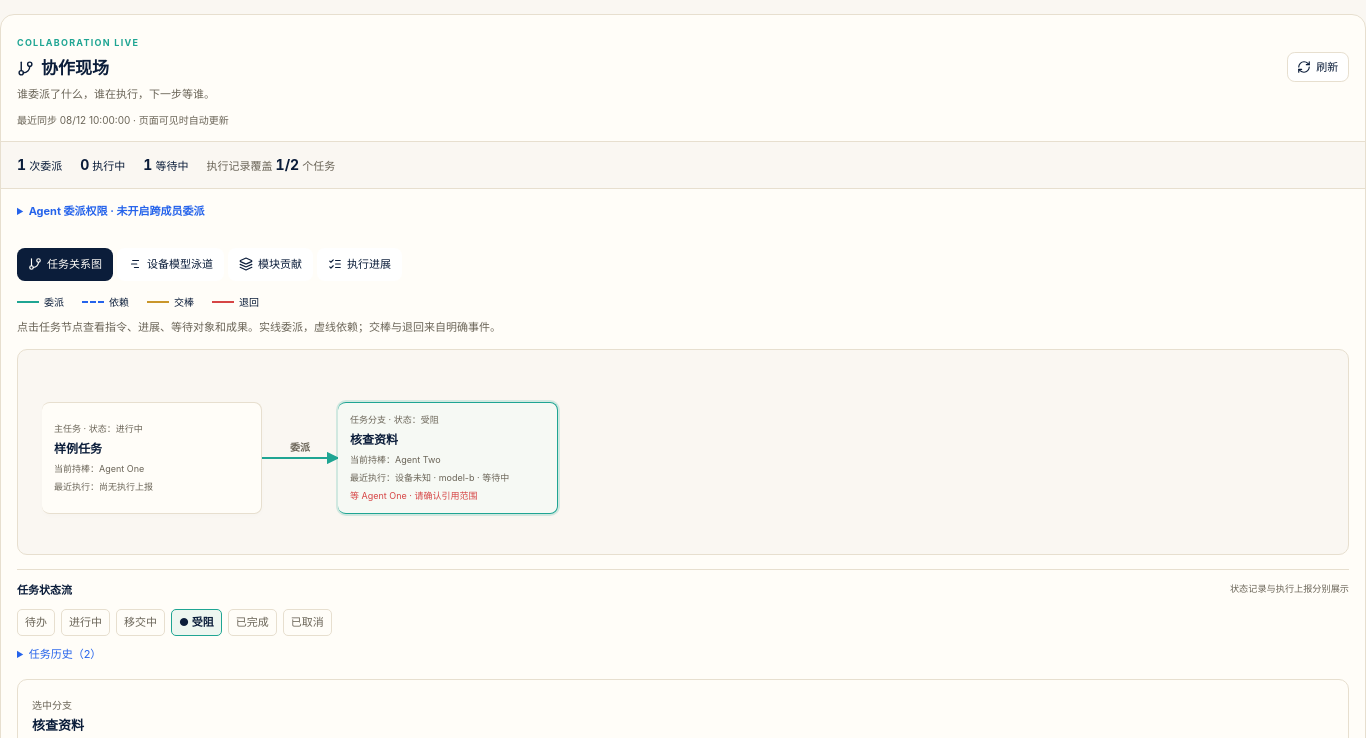
Test: 任务委派权限设置 › 策略初始不默认勾选Agent，空名单保存可撤销，失败重试复用幂等键
Step 1. Click the heading "Agent 委派权限 · 未开启跨成员委派" → (116, 210), box [29,204,204,218]
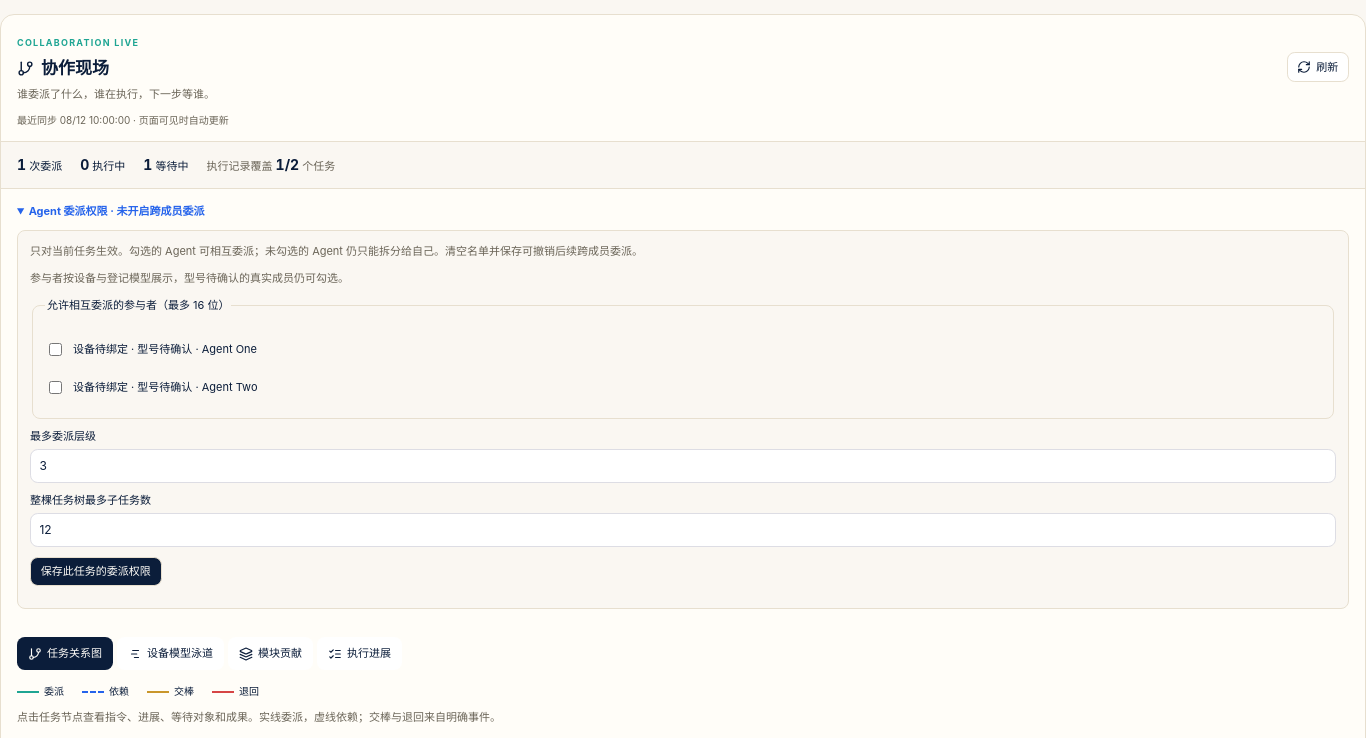
Now the checkbox labelled "设备待绑定 · 型号待确认 · Agent One" is not checked, box [49,343,62,356]
Now the checkbox labelled "设备待绑定 · 型号待确认 · Agent Two" is not checked, box [49,381,62,394]
Step 2. Click the button "保存此任务的委派权限" → (96, 572), box [30,557,162,586]
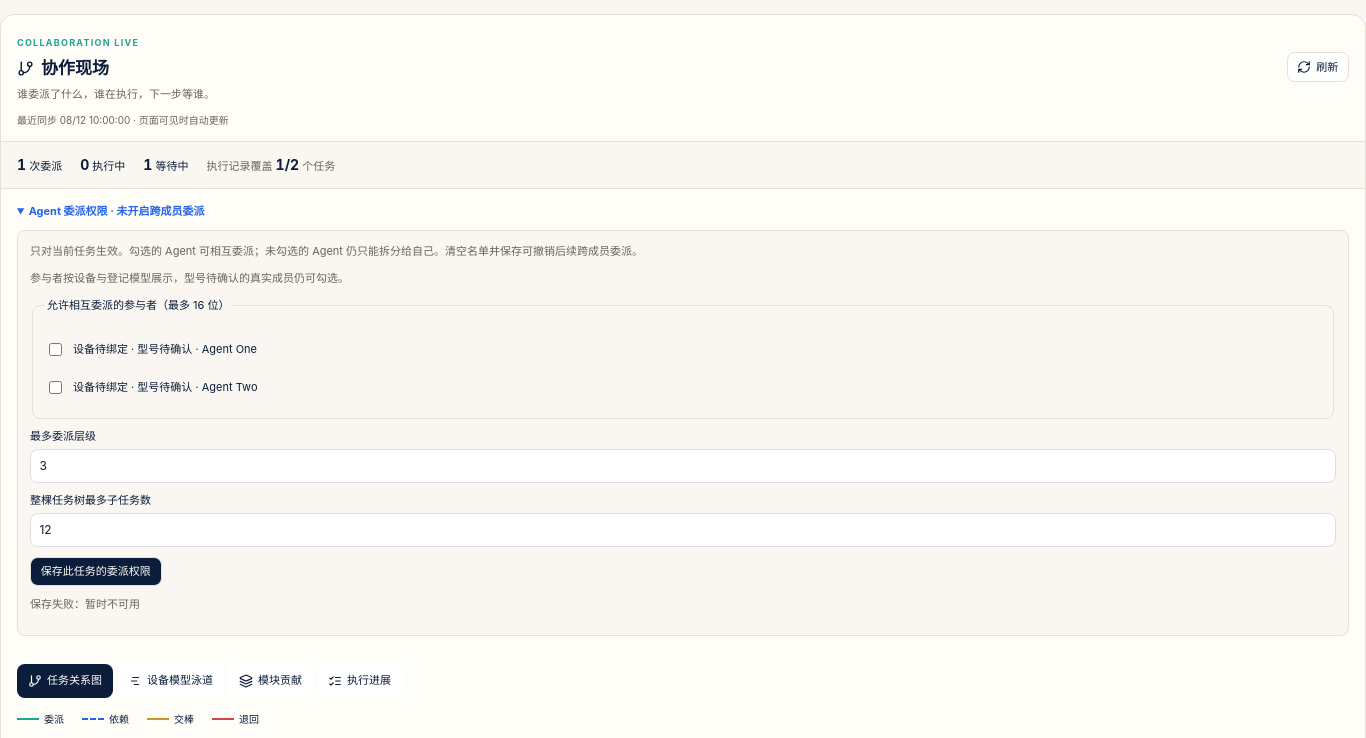
Now the text "保存失败：暂时不可用" is shown, box [30,597,140,611]
Step 3. Click the button "保存此任务的委派权限" → (96, 572), box [30,557,162,586]
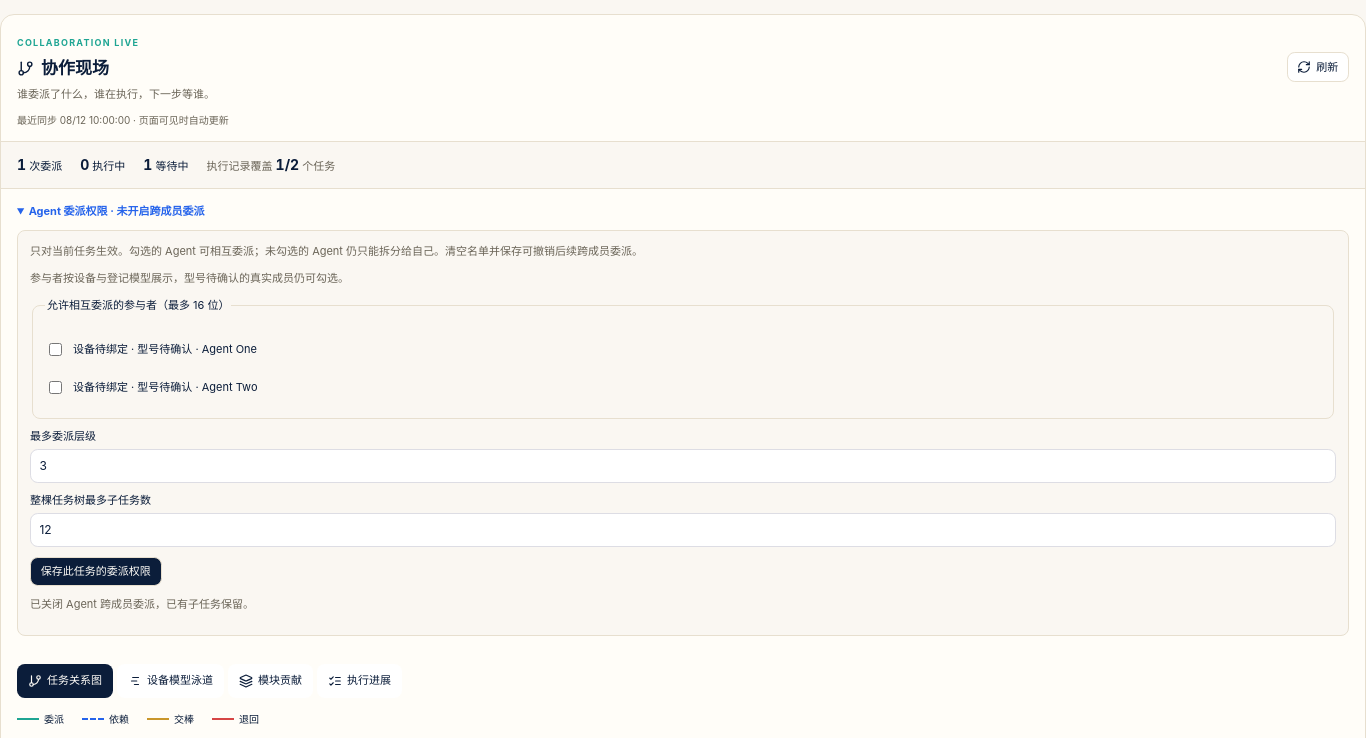
Now the text "已关闭 Agent 跨成员委派，已有子任务保留。" is shown, box [30,597,254,611]
